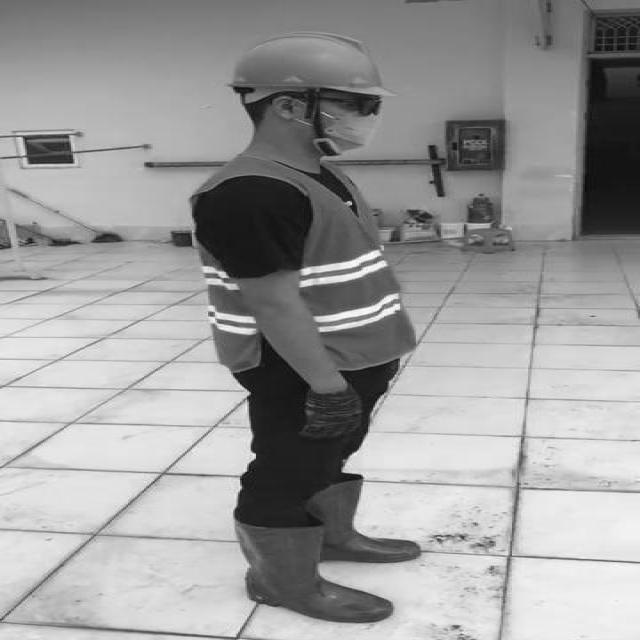boots: (229, 516, 395, 624), (311, 477, 423, 566)
face_mask: (311, 93, 389, 151)
hand_glove: (302, 388, 368, 439)
head_helmet: (222, 28, 396, 106)
person: (172, 29, 460, 628)
vest: (194, 156, 412, 371)
